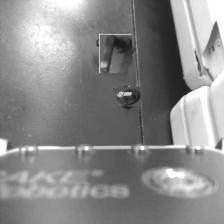Door Handle: (97, 36, 134, 71)
Lock: (115, 84, 139, 108)
